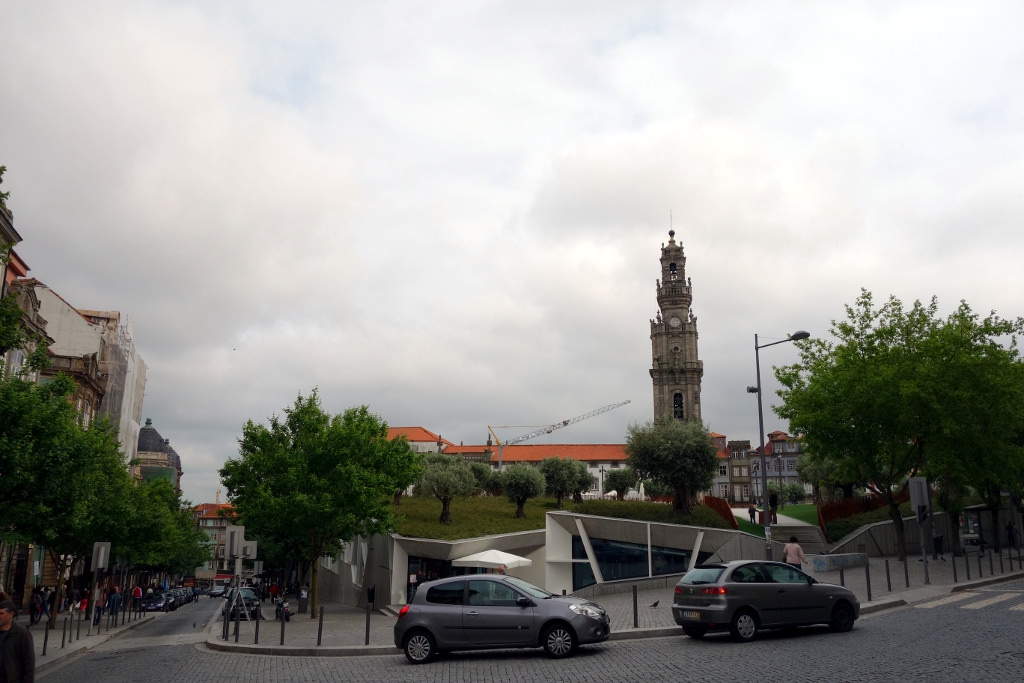clerigos: (647, 213, 707, 421)
